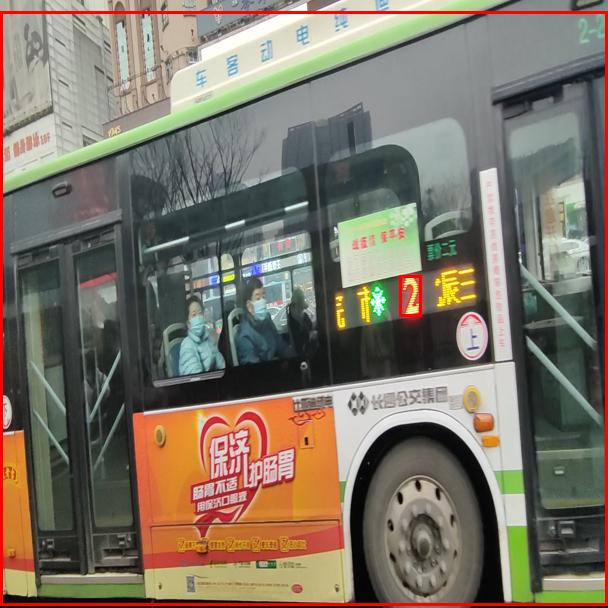bus: (0, 11, 607, 605)
screen: (399, 275, 421, 316)
